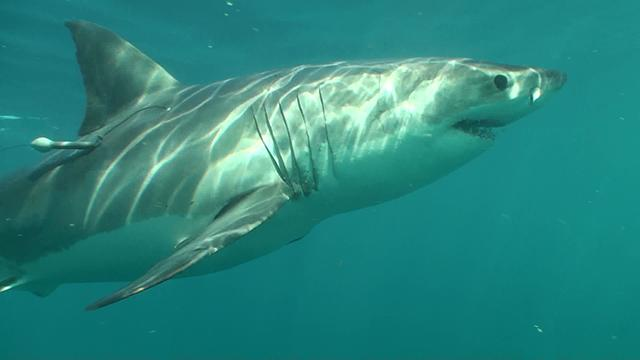Mulut: (429, 95, 531, 168)
Sirip Dada: (71, 161, 311, 329)
Sirip Punggung: (56, 11, 198, 145)
